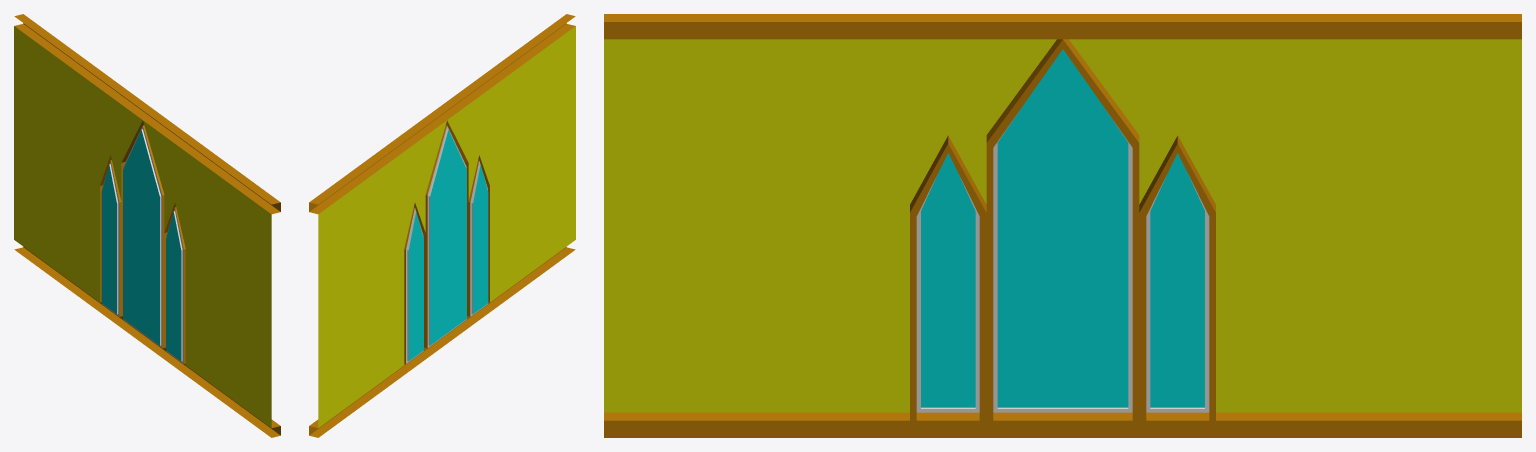
Rendered from Mesh_Large2Wall01.fbx.
3 views of the same model, side by side, from view 1: azimuth 30°, elevation 25°; view 2: azimuth 150°, elevation 25°; view 3: azimuth 270°, elevation 25° (orthographic). The views are drawn at different scales.
Parts seen in each view (by area): view 1: Mesh_Large2Wall01; view 2: Mesh_Large2Wall01; view 3: Mesh_Large2Wall01.
Part boxes in pixels (left/top/right/bottom): Mesh_Large2Wall01: left=14, top=14, right=280, bottom=437; Mesh_Large2Wall01: left=309, top=14, right=575, bottom=437; Mesh_Large2Wall01: left=604, top=14, right=1521, bottom=437.
Bounding box in the file's own units: 1.15 × 24 × 48.
